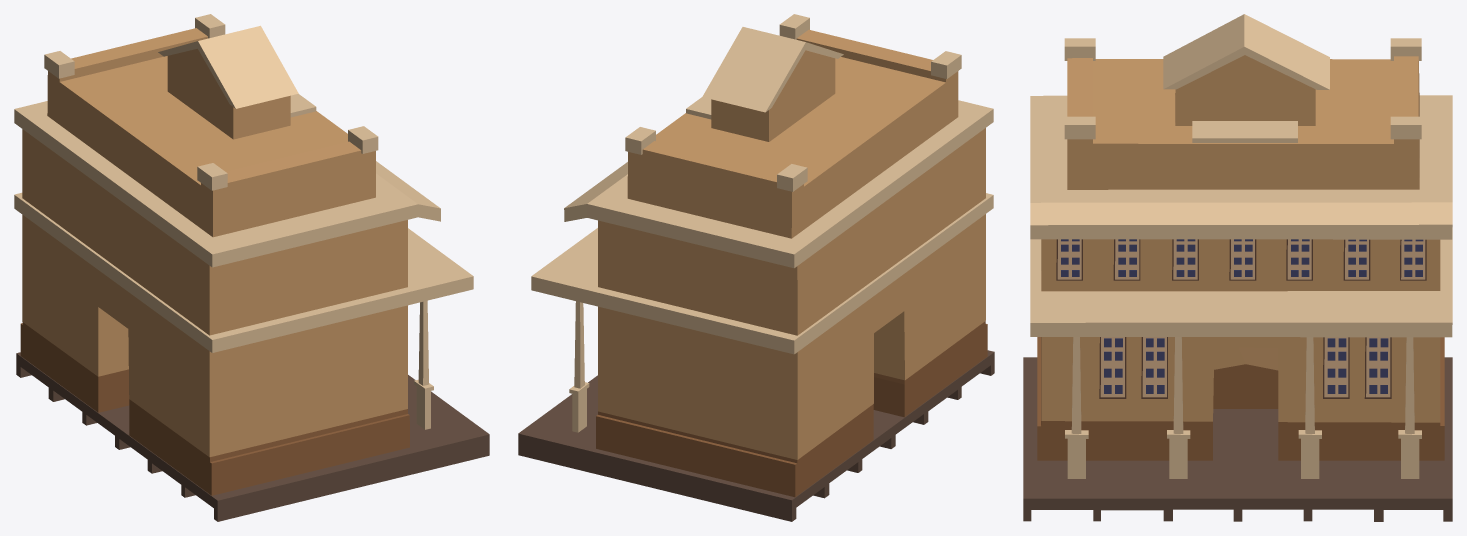
Rendered from dom_2_jeden_obiekt.fbx.
3 views of the same model, side by side, from view 1: azimuth 30°, elevation 25°; view 2: azimuth 150°, elevation 25°; view 3: azimuth 270°, elevation 25° (orthographic). The views are drawn at different scales.
Parts seen in each view (by area): view 1: Plane.015; view 2: Plane.015; view 3: Plane.015.
Boxes of the visible parts, x1,y1,x2,y2 form: Plane.015: (14, 14, 489, 521); Plane.015: (518, 14, 994, 521); Plane.015: (1023, 14, 1452, 521).
Bounding box in the file's own units: 7.99 × 10.72 × 10.17.
